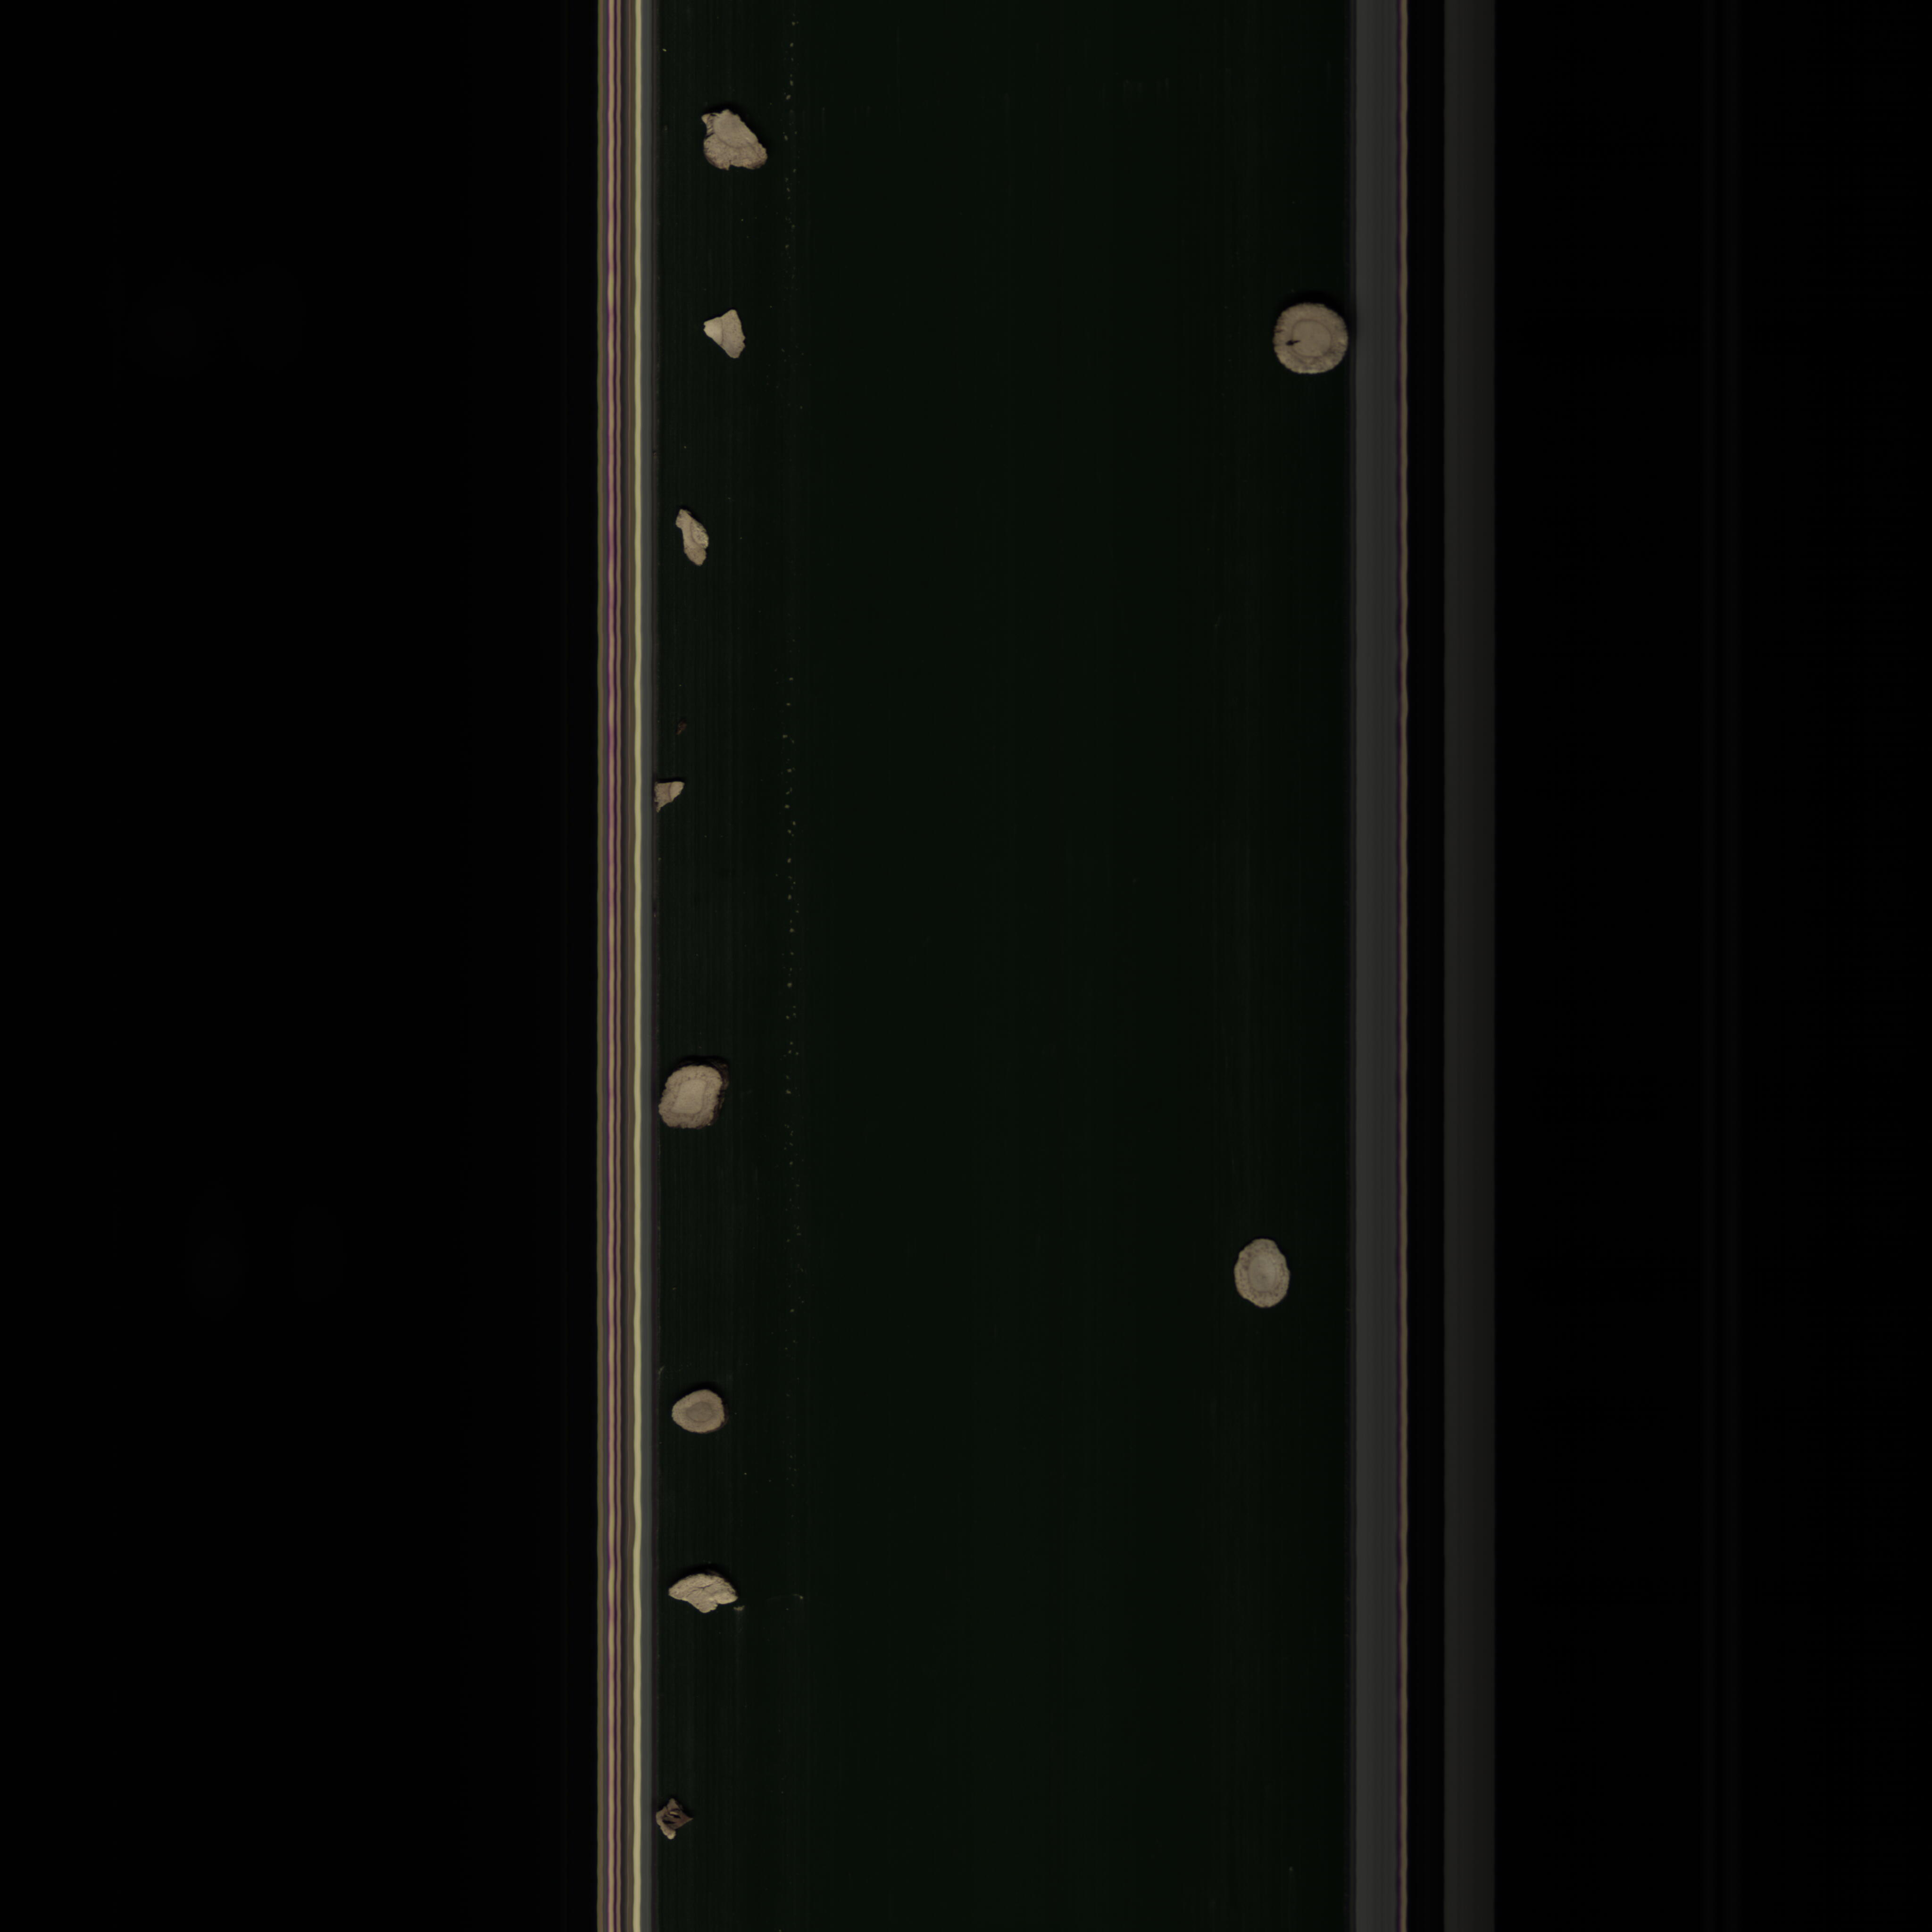bark: (648, 1794, 694, 1844)
debris: (694, 104, 777, 177), (665, 1568, 752, 1622), (694, 306, 763, 370), (671, 501, 713, 573), (648, 773, 692, 819)
hole: (1265, 295, 1353, 387)
